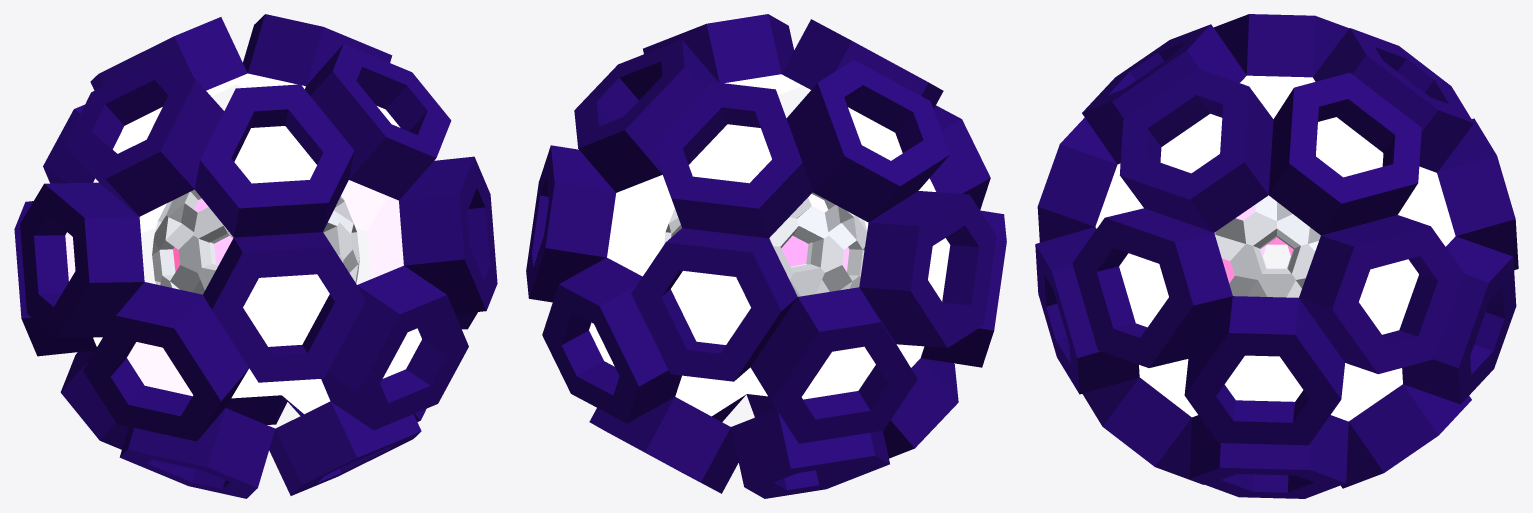
The model's file is Eye.glb.
The picture shows the model from 3 angles, left to right: view 1: azimuth 30°, elevation 25°; view 2: azimuth 150°, elevation 25°; view 3: azimuth 270°, elevation 25°; orthographic projection.
Parts seen in each view (by area): view 1: Icosphere, Icosphere.001; view 2: Icosphere, Icosphere.001; view 3: Icosphere, Icosphere.001.
Part boxes in pixels (x1,y1,x2,y2): Icosphere: [14, 14, 497, 498]; Icosphere.001: [152, 189, 359, 294]; Icosphere: [526, 14, 1006, 498]; Icosphere.001: [664, 192, 866, 296]; Icosphere: [1035, 14, 1518, 498]; Icosphere.001: [1214, 195, 1320, 297].
Bounding box in the file's own units: 5.3 × 4.97 × 5.28.
